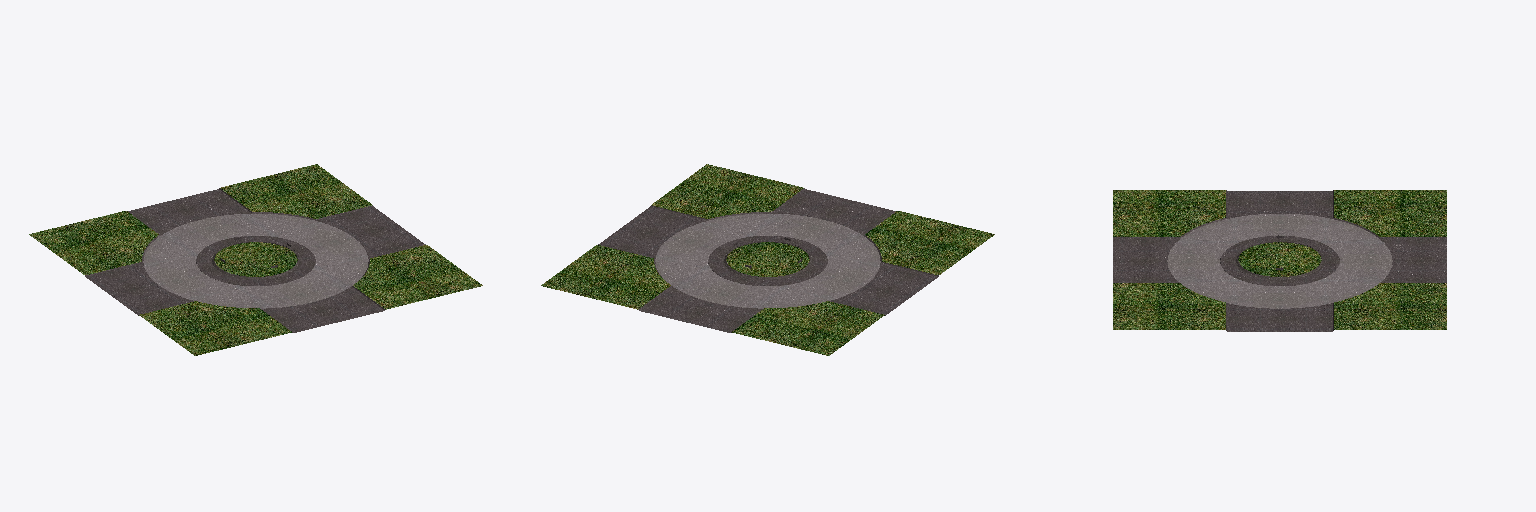
3 renders of one model, left to right at view 1: azimuth 30°, elevation 25°; view 2: azimuth 150°, elevation 25°; view 3: azimuth 270°, elevation 25°, orthographic.
Bounding box in the file's own units: 40 × 1.36 × 40.
4 materials, 3 textured.